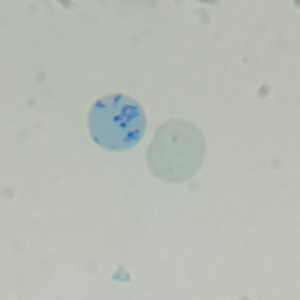aggregate reticulocyte: (85, 91, 149, 153)
punctate reticulocyte: (143, 118, 206, 185)
